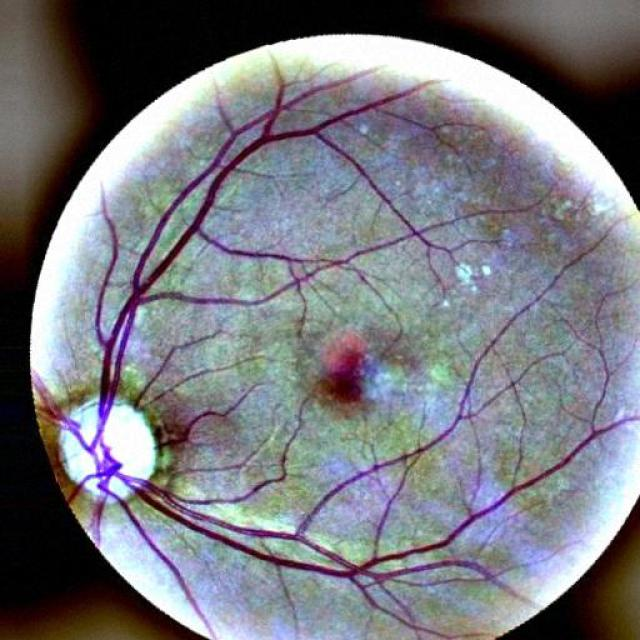Macula: (320, 331, 366, 402)
Nerves: (46, 69, 639, 639)
Optic Disk: (58, 396, 156, 499)
